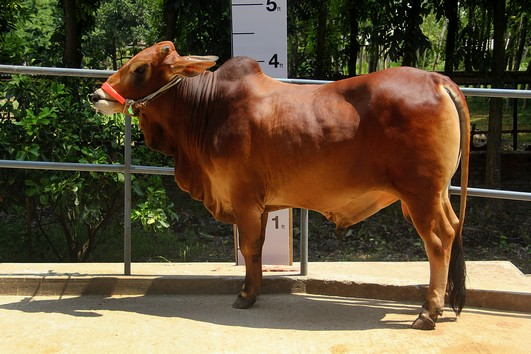cow: (79, 34, 475, 328)
